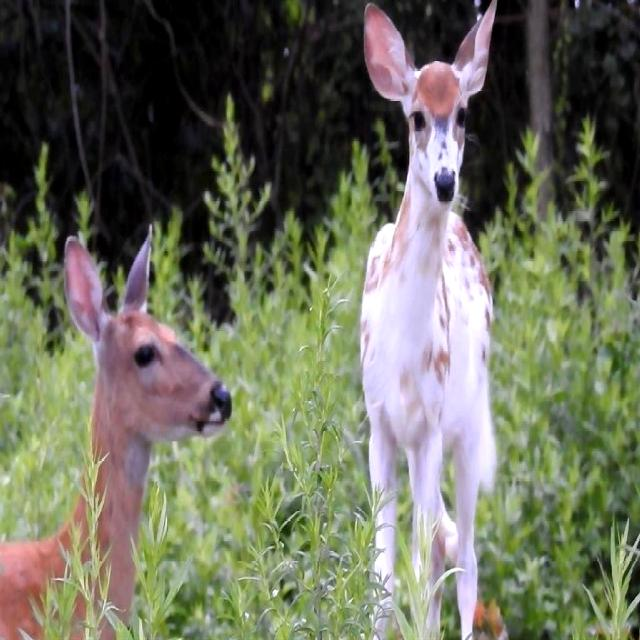deer: (352, 0, 514, 630), (0, 223, 235, 640)
